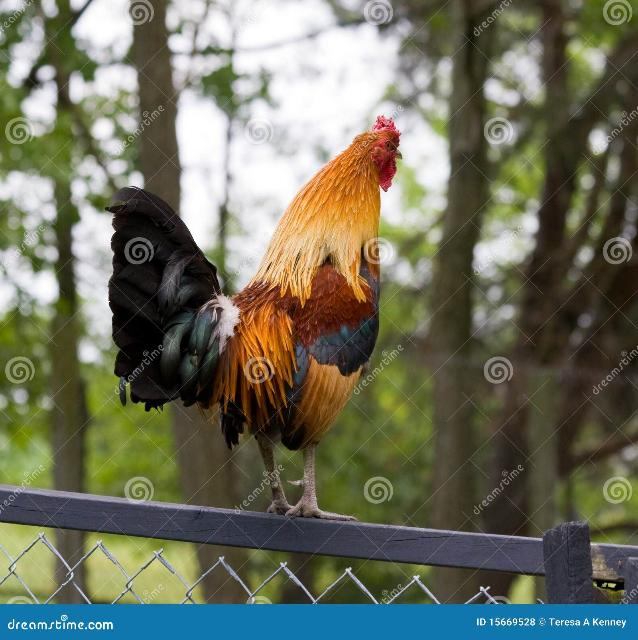Chicken: (110, 116, 405, 521)
